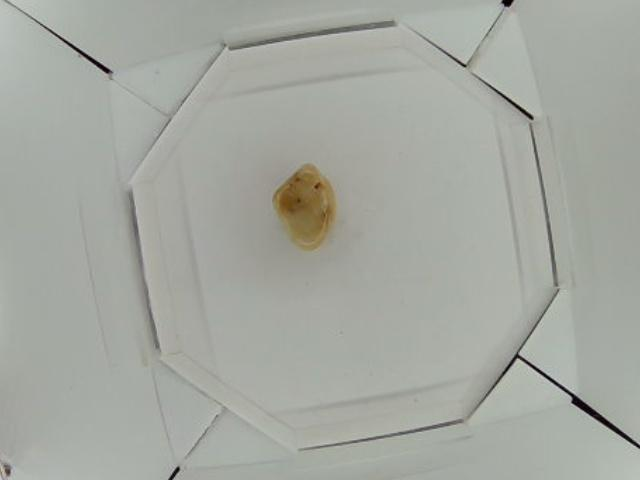Pebble: (276, 163, 336, 251)
